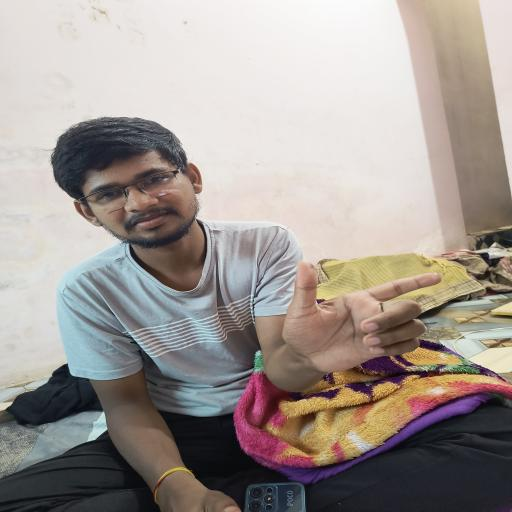Sorry: (267, 248, 483, 394)
